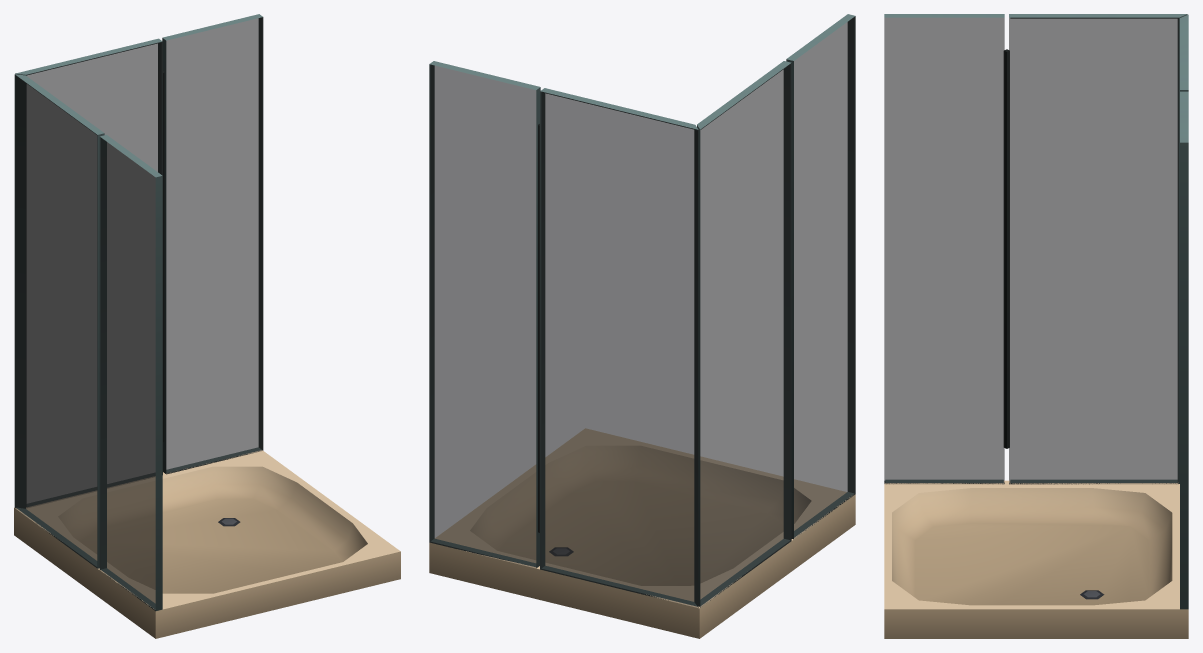
Rendered from TSP_Bathroom_Shower_Cabin_01A.fbx.
The picture shows the model from 3 angles, left to right: view 1: azimuth 30°, elevation 25°; view 2: azimuth 150°, elevation 25°; view 3: azimuth 270°, elevation 25°; orthographic projection. The views are drawn at different scales.
Visible parts, largest first — view 1: TSP_Bathroom_Shower_Cabin_01A, TSP_Bathroom_Shower_Cabin_01A_Door.R, TSP_Bathroom_Shower_Cabin_01A_Door.L; view 2: TSP_Bathroom_Shower_Cabin_01A, TSP_Bathroom_Shower_Cabin_01A_Door.R, TSP_Bathroom_Shower_Cabin_01A_Door.L; view 3: TSP_Bathroom_Shower_Cabin_01A, TSP_Bathroom_Shower_Cabin_01A_Door.L, TSP_Bathroom_Shower_Cabin_01A_Door.R.
Boxes of the visible parts, x1=… form: TSP_Bathroom_Shower_Cabin_01A: x1=14, y1=14, x2=400, y2=638; TSP_Bathroom_Shower_Cabin_01A_Door.R: x1=15, y1=38, x2=162, y2=507; TSP_Bathroom_Shower_Cabin_01A_Door.L: x1=14, y1=74, x2=104, y2=568; TSP_Bathroom_Shower_Cabin_01A: x1=429, y1=14, x2=855, y2=638; TSP_Bathroom_Shower_Cabin_01A_Door.R: x1=540, y1=88, x2=698, y2=607; TSP_Bathroom_Shower_Cabin_01A_Door.L: x1=697, y1=61, x2=791, y2=607; TSP_Bathroom_Shower_Cabin_01A: x1=884, y1=14, x2=1188, y2=638; TSP_Bathroom_Shower_Cabin_01A_Door.L: x1=1009, y1=14, x2=1187, y2=484; TSP_Bathroom_Shower_Cabin_01A_Door.R: x1=1180, y1=14, x2=1188, y2=91.
Bounding box in the file's own units: 1.39 × 2.5 × 1.39.
